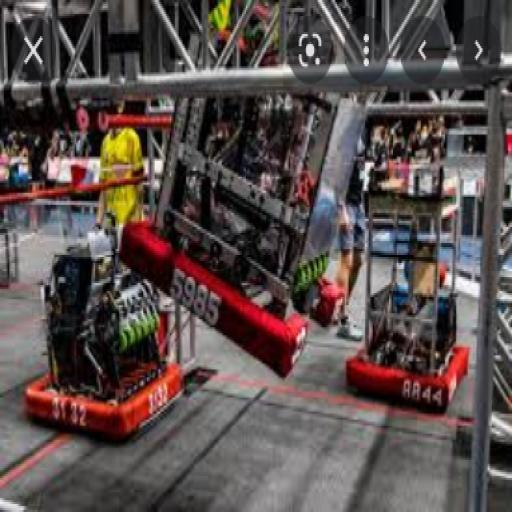robot: (115, 60, 356, 368), (350, 120, 469, 408), (22, 243, 184, 430)
